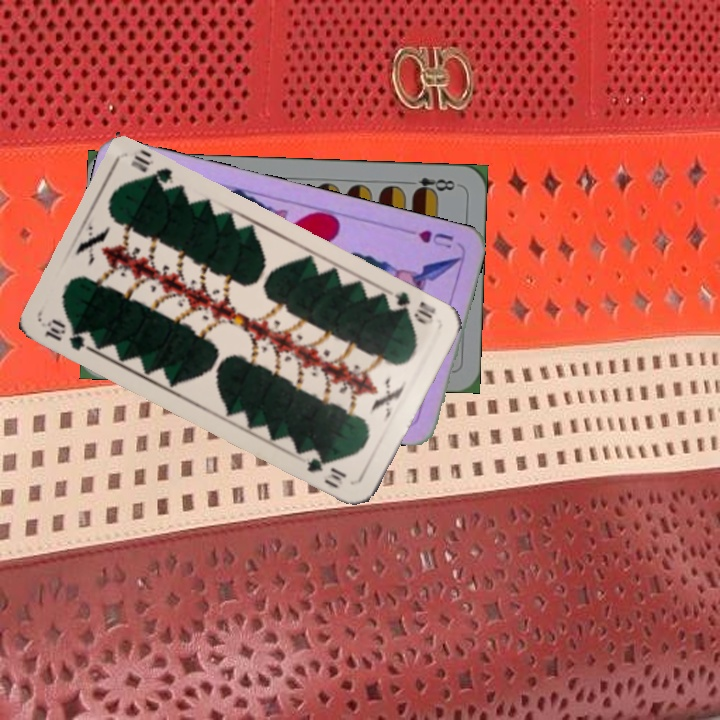E8: (402, 173, 458, 197)
G10: (40, 314, 98, 354), (390, 287, 439, 328)
HU: (402, 226, 457, 251)
